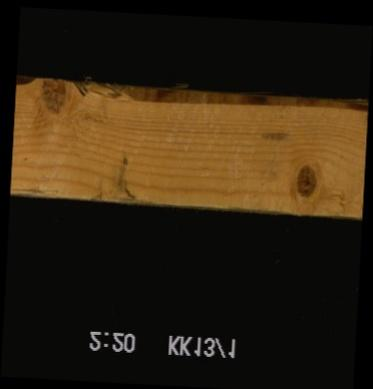sound_knot: (292, 162, 316, 200)
wave: (15, 82, 366, 119)
